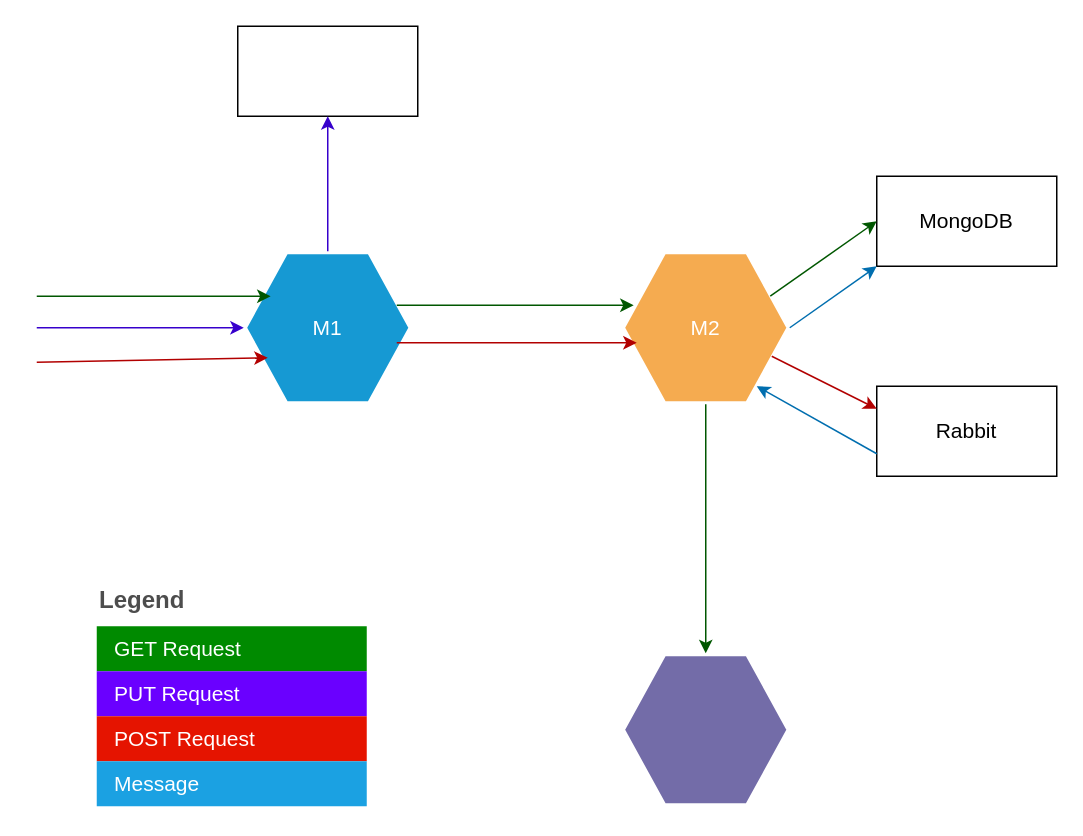
The diagram is 1083 pixels wide and 836 high, and some of its shapes have lost their labels. Here are the shapes that lost their labels. From the top down, the box of each, then its label:
(236, 25, 418, 116): Postgres
(618, 650, 792, 808): M3
